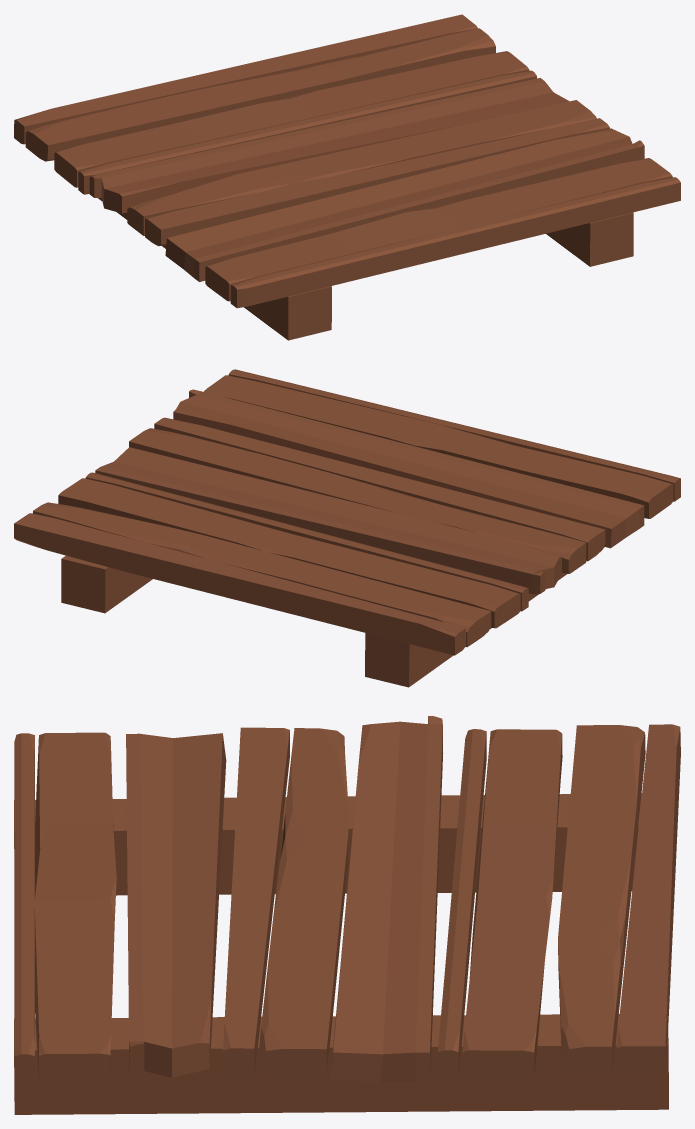
File: mat_wood.fbx
3 renders of one model, top to bottom at view 1: azimuth 30°, elevation 25°; view 2: azimuth 150°, elevation 25°; view 3: azimuth 270°, elevation 25°, orthographic. The views are drawn at different scales.
Parts seen in each view (by area): view 1: Wood_pallet; view 2: Wood_pallet; view 3: Wood_pallet.
Boxes of the visible parts, x1,y1,x2,y2 form: Wood_pallet: (14,14,680,340); Wood_pallet: (14,369,680,687); Wood_pallet: (14,716,680,1114).
Bounding box in the file's own units: 667 × 104 × 577.
